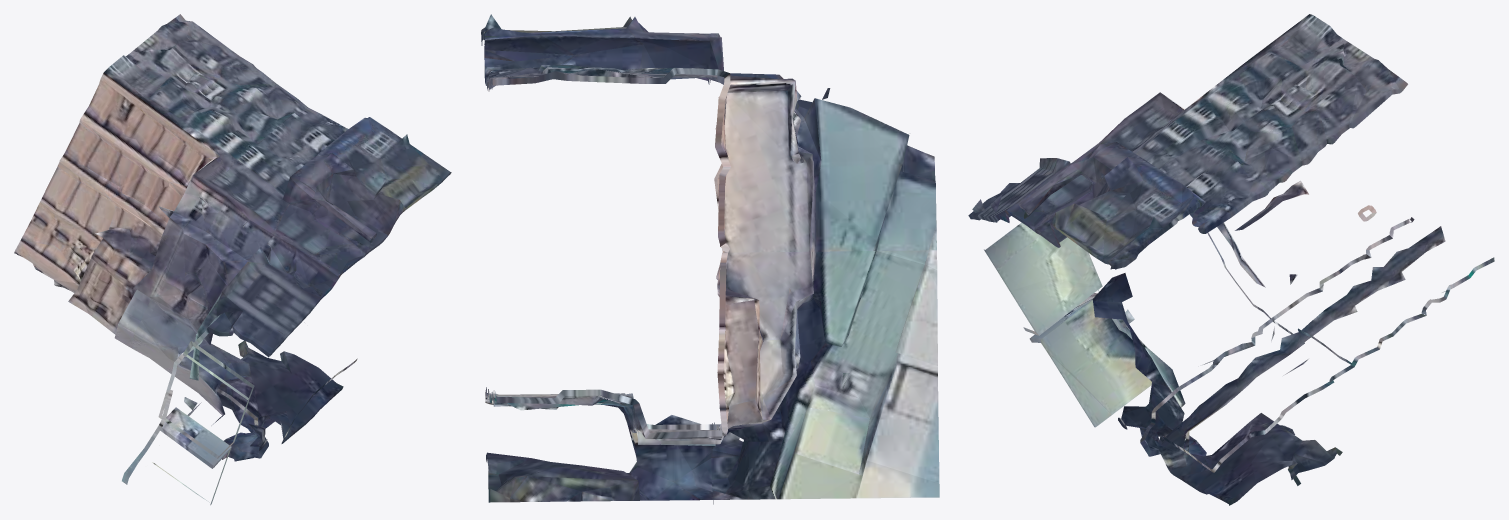
3 renders of one model, left to right at view 1: azimuth 30°, elevation 25°; view 2: azimuth 150°, elevation 25°; view 3: azimuth 270°, elevation 25°, orthographic. The views are drawn at different scales.
Bounding box in the file's own units: 41.85 × 45.72 × 52.94.
1 material, 1 textured.
